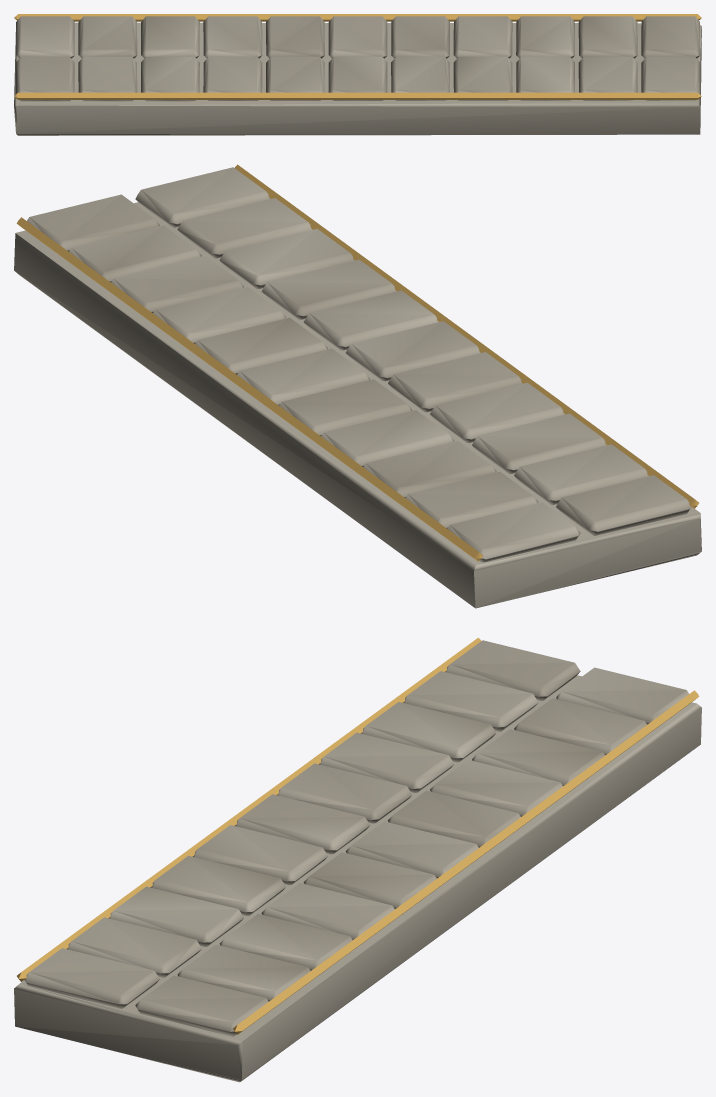
Rendered from default_road_m30.glb.
3 views of the same model, one above another, from view 1: azimuth 30°, elevation 25°; view 2: azimuth 150°, elevation 25°; view 3: azimuth 270°, elevation 25° (orthographic). The views are drawn at different scales.
Parts seen in each view (by area): view 1: WoodBody, BrassTrim; view 2: WoodBody, BrassTrim; view 3: WoodBody, BrassTrim.
Boxes of the visible parts, x1,y1,x2,y2 form: WoodBody: (14, 16, 701, 135); BrassTrim: (14, 14, 701, 99); WoodBody: (14, 167, 701, 608); BrassTrim: (16, 164, 698, 561); WoodBody: (14, 640, 701, 1082); BrassTrim: (17, 637, 699, 1034).
Size of the model in its own units: 0.6626 by 0.045 by 0.4908.
